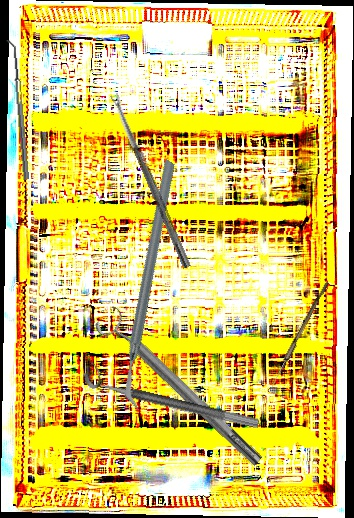Chopper: (39, 157, 264, 412)
Fixation Ring: (92, 302, 269, 476), (80, 360, 264, 430)
Spatula Surgical: (5, 38, 30, 181)
Surgical Spoon: (110, 92, 192, 269), (269, 280, 329, 390)
